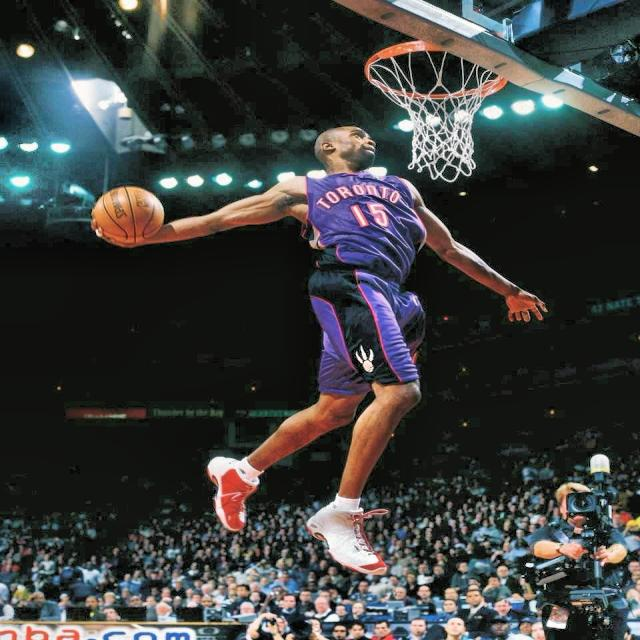board: (93, 187, 163, 247)
rim: (362, 37, 502, 182)
